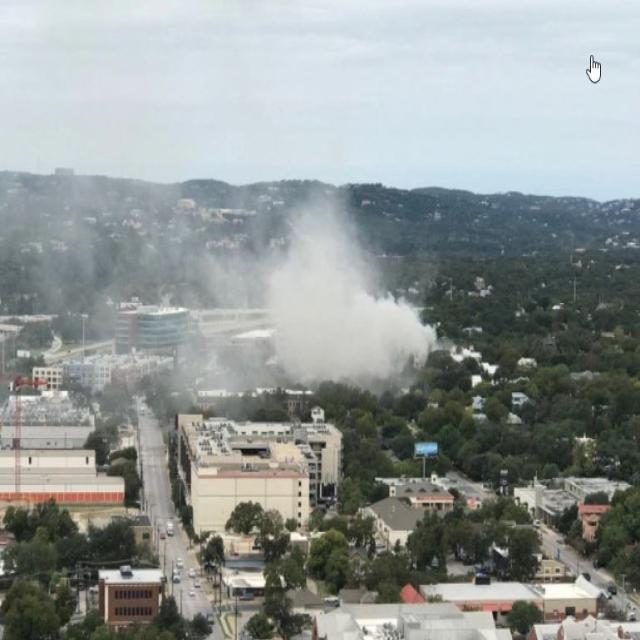Smoke: (258, 211, 437, 393)
